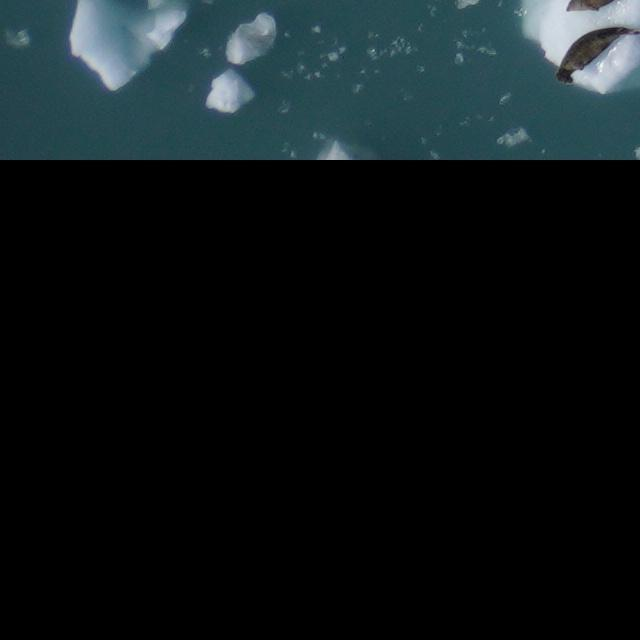seal: (555, 27, 637, 83), (564, 0, 613, 11)
